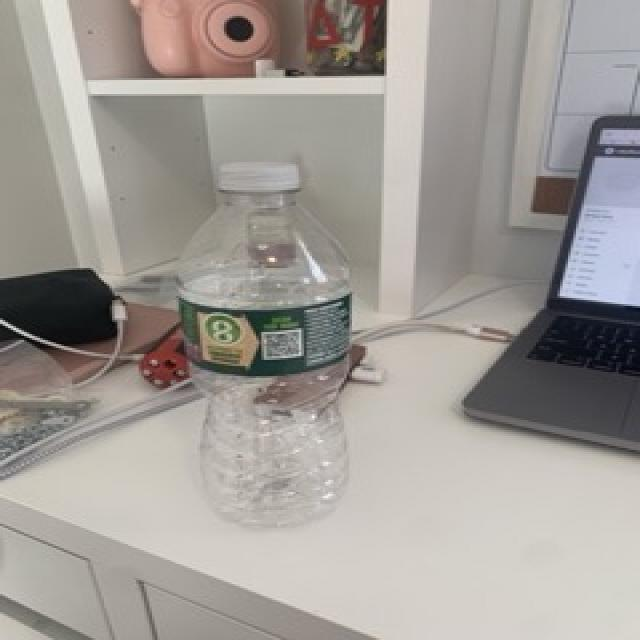water_bottle: (168, 157, 359, 532)
